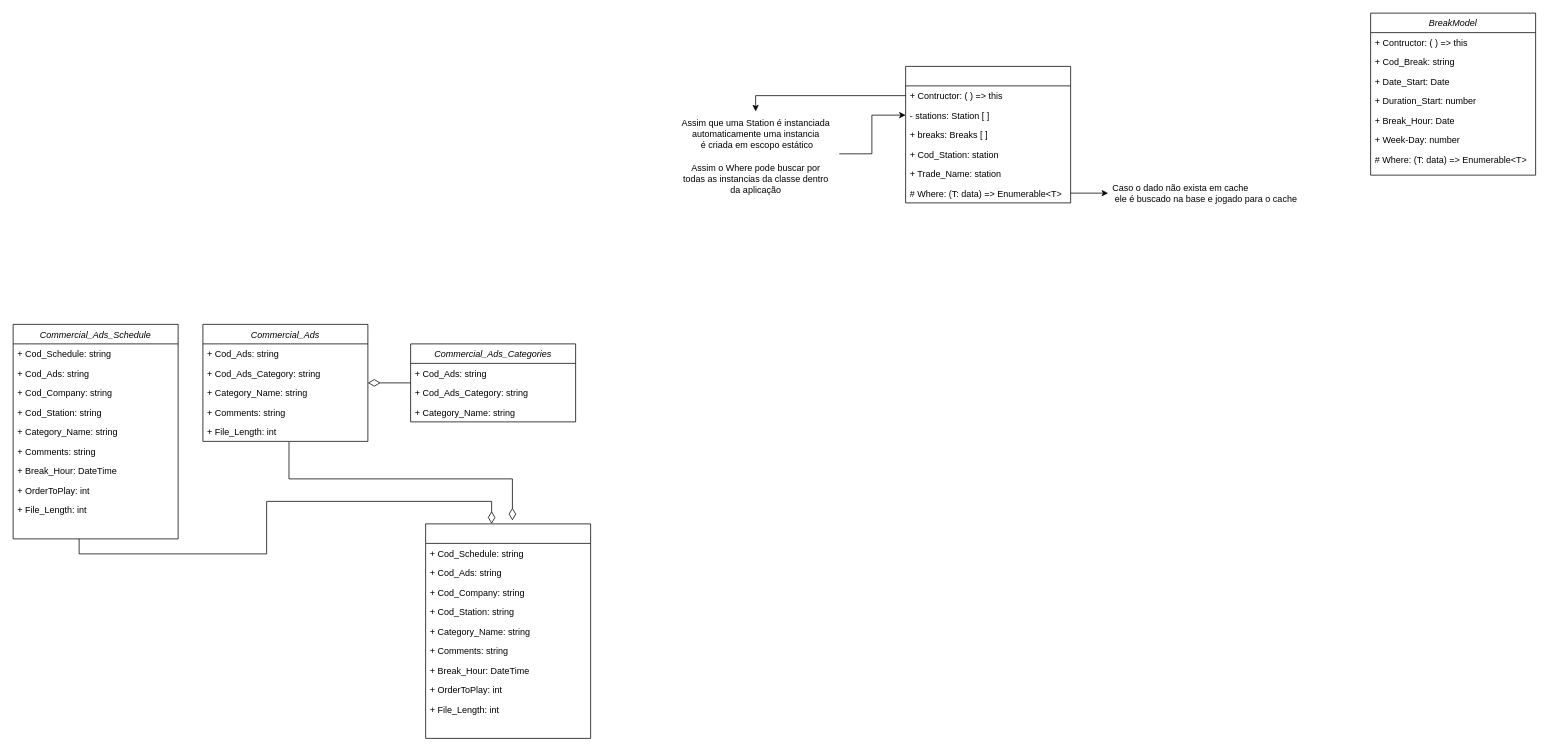
Image size: 1549x752. Some labels were removed from this diagram. The shapes that lost their labels are listed below. From the top down, each one's box as (x1, y1, x2, y2) in pixels, then its label:
(905, 66, 1071, 203): StationModel
(425, 523, 591, 738): AdsModel
